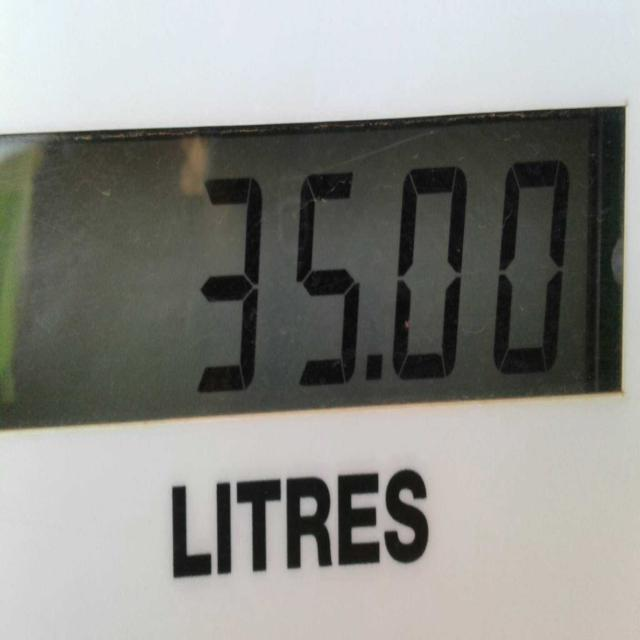.: (364, 356, 383, 384)
0: (499, 161, 572, 369), (397, 172, 461, 376)
3: (193, 179, 263, 400)
5: (298, 171, 359, 381)
